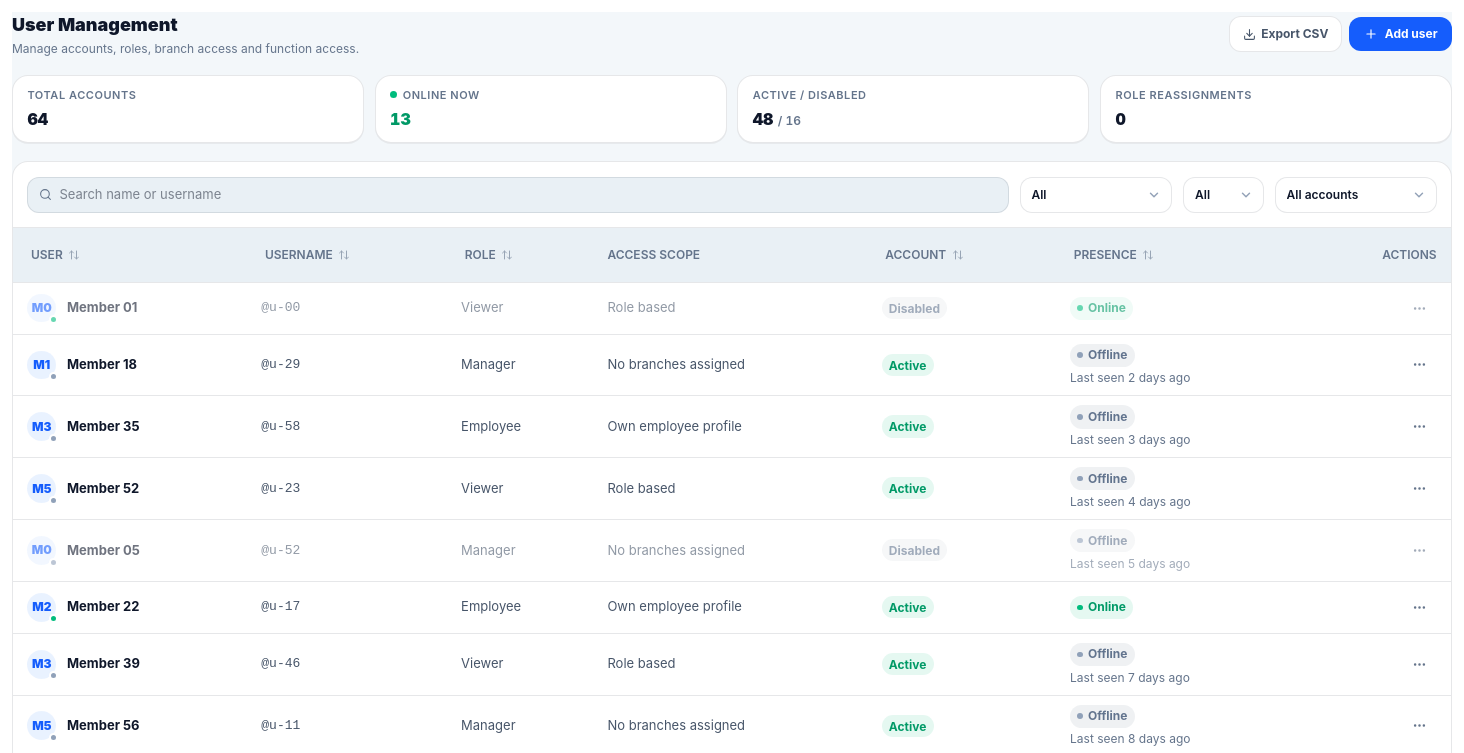
Users sorting › returns to the received order after the third click on the same header
Step 1. Click the button "User" → (56, 255), box x1=27 y1=239 x2=84 y2=271
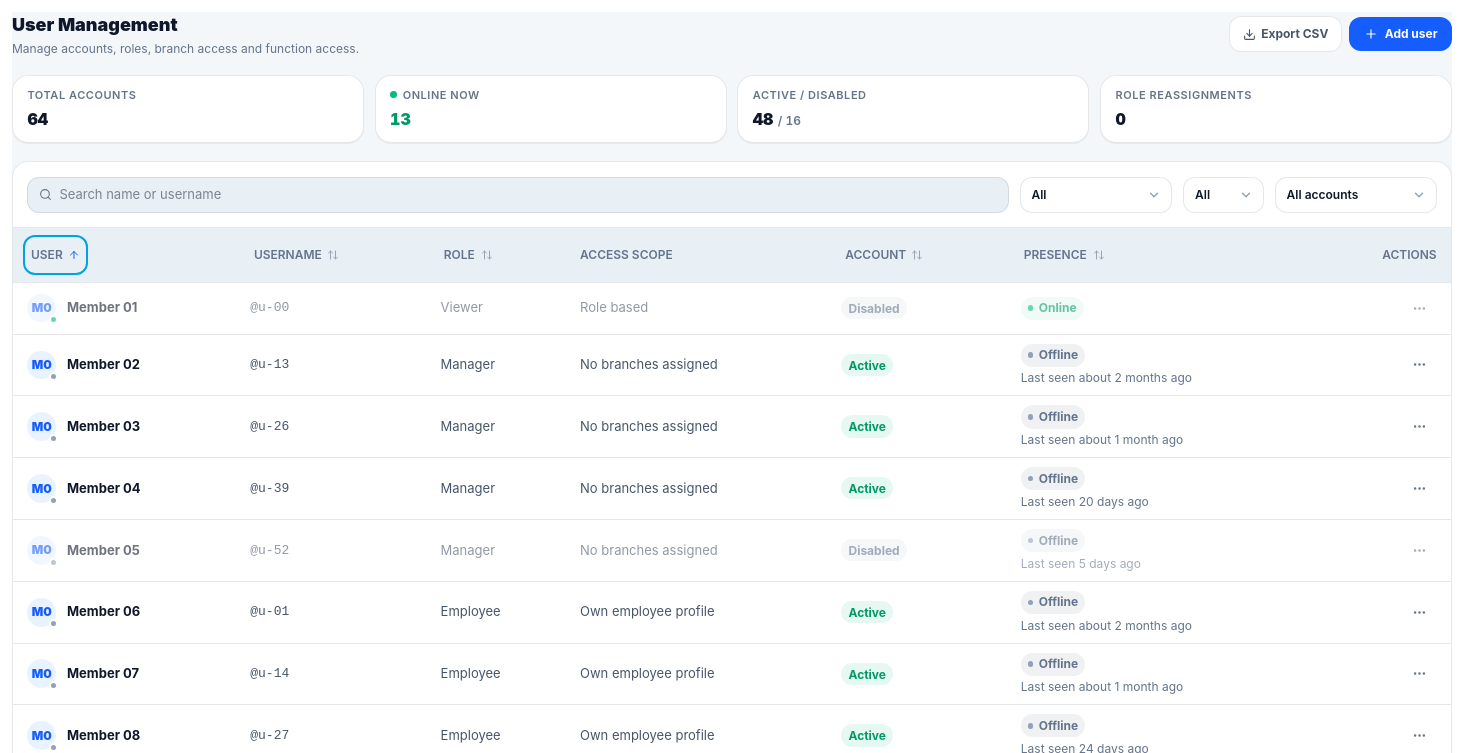
Step 2. Click the button "User" → (56, 255), box x1=27 y1=239 x2=84 y2=271
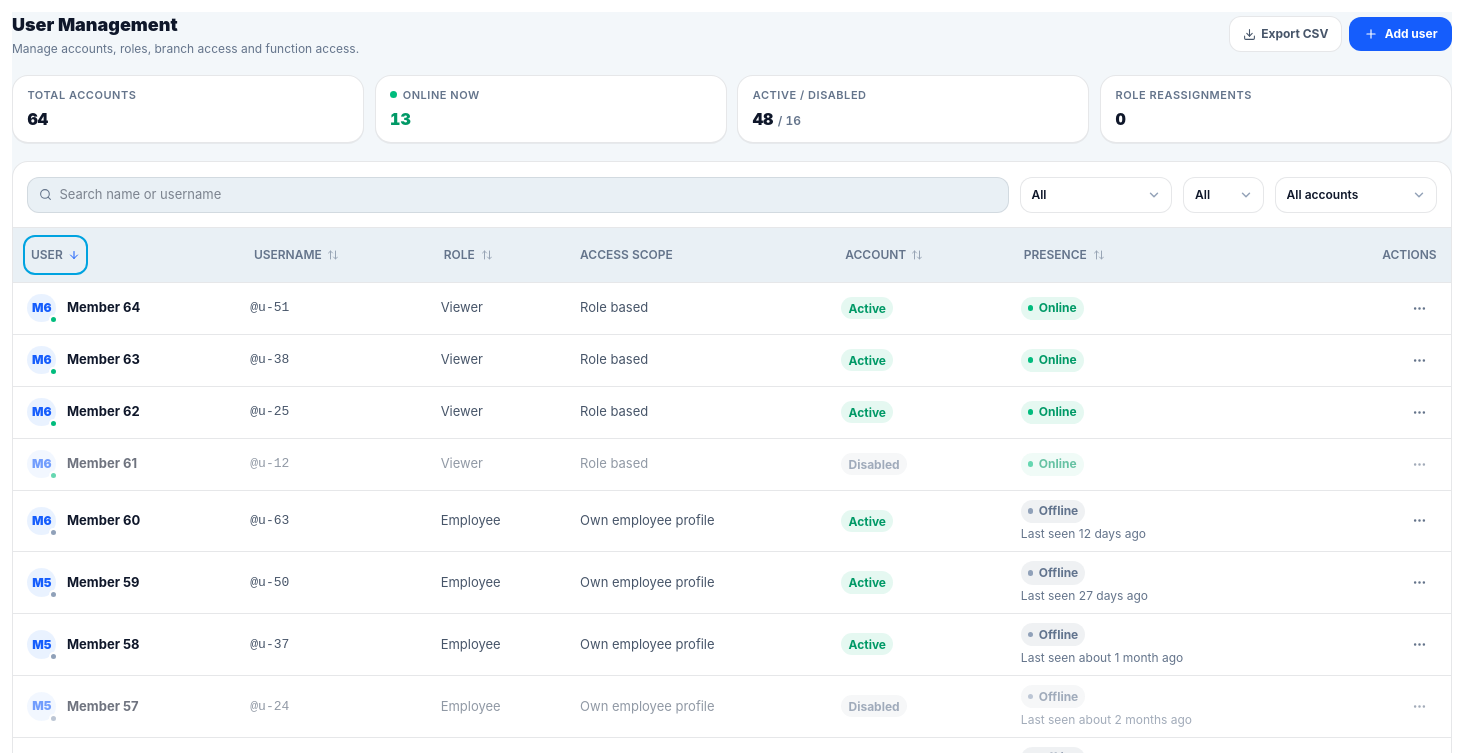
Step 3. Click the button "User" → (56, 255), box x1=27 y1=239 x2=84 y2=271
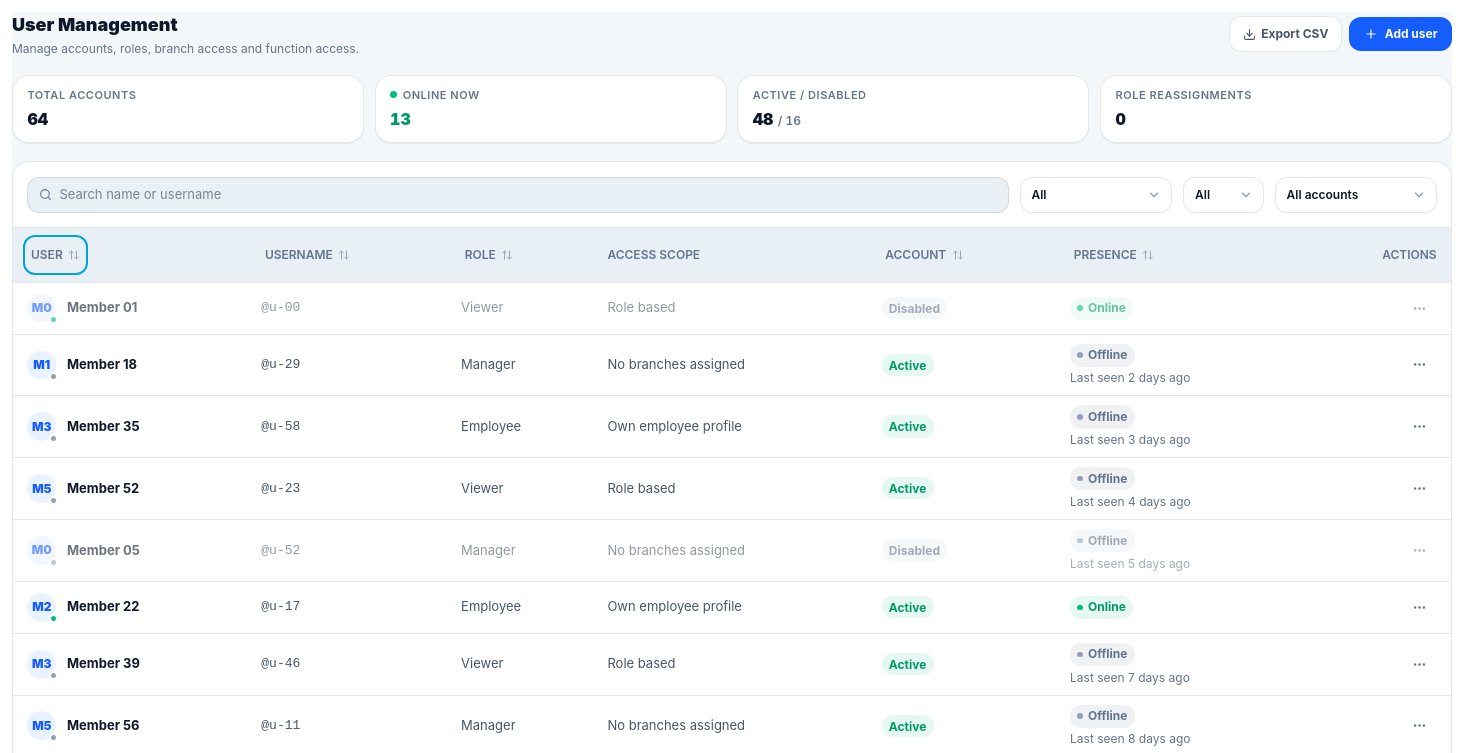
Expected: the text with class "font-bold" reads "Member 01", x1=67 y1=299 x2=137 y2=315
